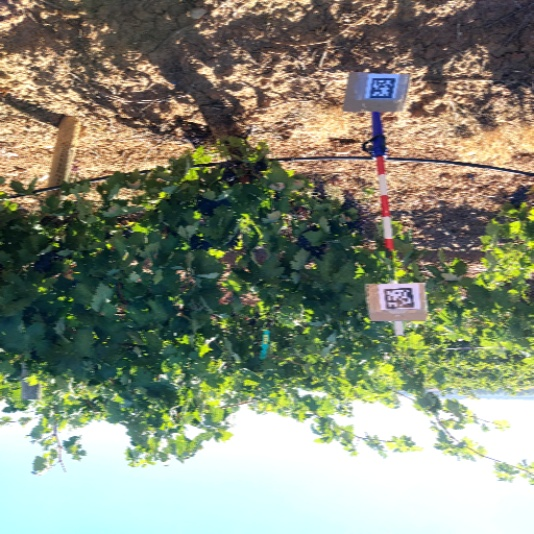QR: (383, 287, 415, 309), (369, 77, 395, 98)
